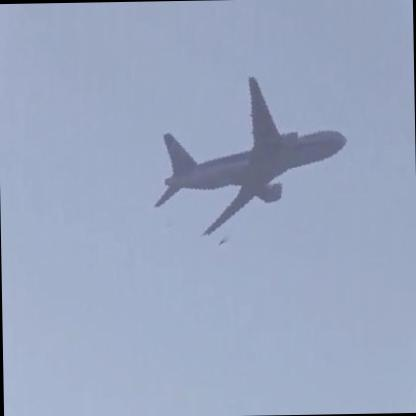plane: (143, 61, 353, 256)
